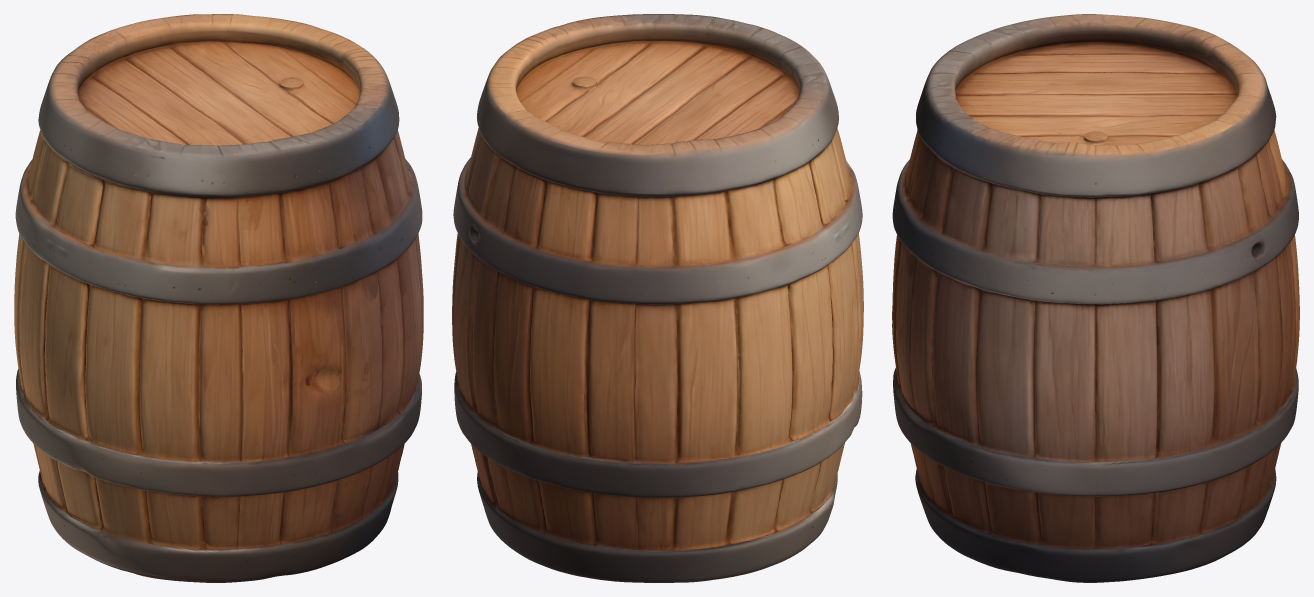
Rendered from barrel_roll.glb.
3 renders of one model, left to right at view 1: azimuth 30°, elevation 25°; view 2: azimuth 150°, elevation 25°; view 3: azimuth 270°, elevation 25°, orthographic.
Visible parts, largest first — view 1: tripo_node_53f28c29; view 2: tripo_node_53f28c29; view 3: tripo_node_53f28c29.
Boxes of the visible parts, x1,y1,x2,y2 form: tripo_node_53f28c29: [14, 14, 423, 582]; tripo_node_53f28c29: [452, 14, 863, 582]; tripo_node_53f28c29: [892, 14, 1299, 582].
Bounding box in the file's own units: 83.58 × 97.93 × 83.59.
1 material, 1 textured.
